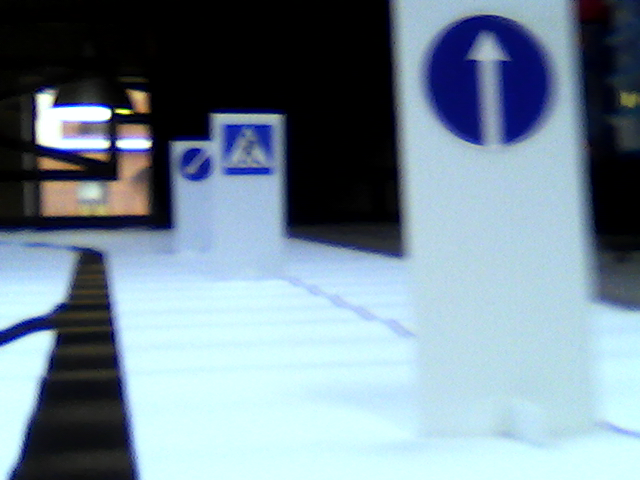forw: (422, 13, 556, 147)
pesh: (221, 119, 279, 177)
prep: (179, 148, 212, 181)
